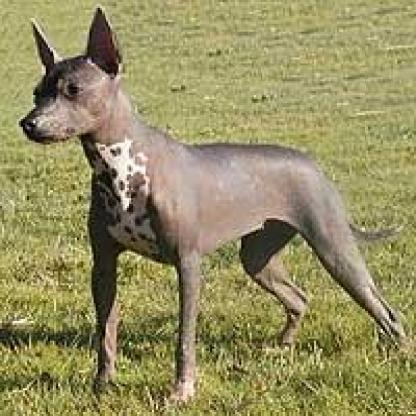Mexican_hairless: (16, 2, 412, 404)
